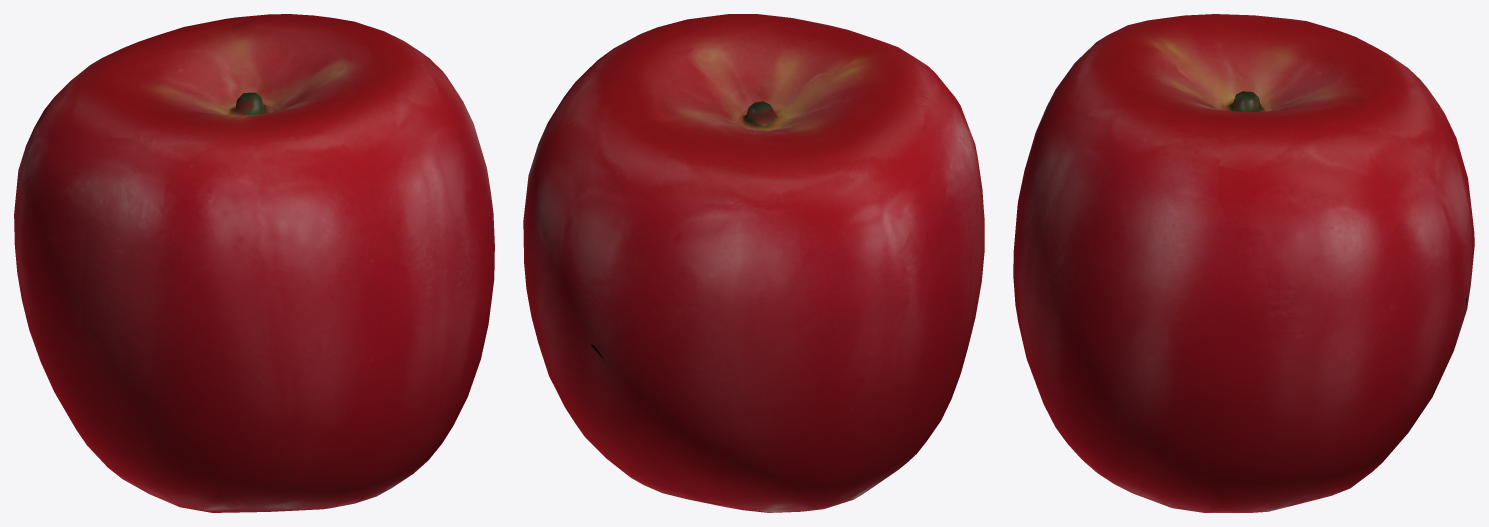
The model's file is background_stem_up.dae.
The picture shows the model from 3 angles, left to right: view 1: azimuth 30°, elevation 25°; view 2: azimuth 150°, elevation 25°; view 3: azimuth 270°, elevation 25°; orthographic projection. The views are drawn at different scales.
Parts seen in each view (by area): view 1: textured; view 2: textured; view 3: textured.
Boxes of the visible parts, <box> form: textured: <box>14,14,494,512</box>; textured: <box>523,14,984,512</box>; textured: <box>1013,14,1474,512</box>.
Size of the model in its own units: 0.0753 by 0.0752 by 0.0722.
Materials: 1 (1 with a texture image).
